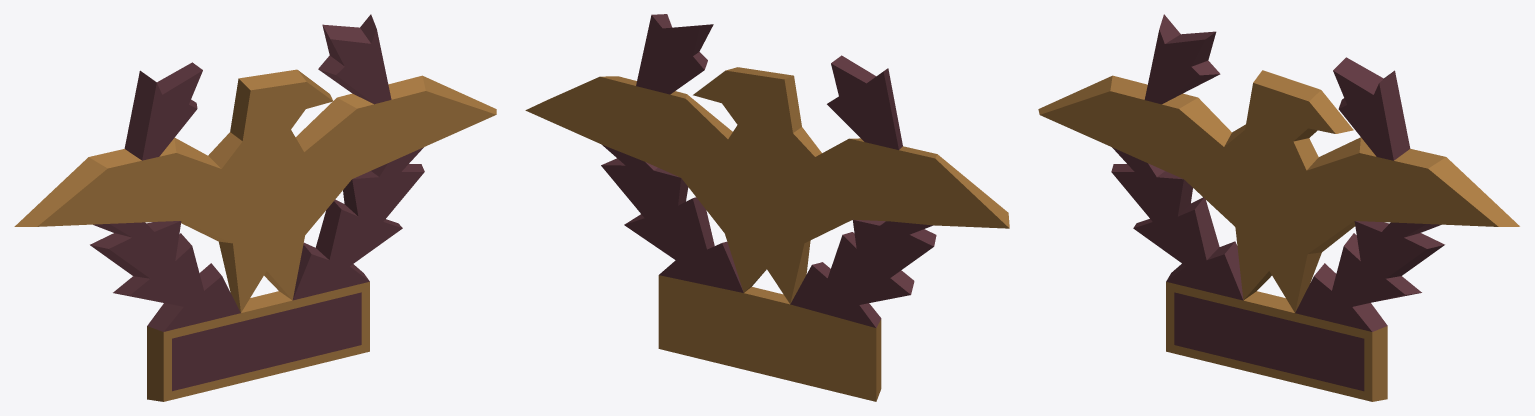
File: SM_Symbol_Roman_Empire.fbx
3 renders of one model, left to right at view 1: azimuth 30°, elevation 25°; view 2: azimuth 150°, elevation 25°; view 3: azimuth 330°, elevation 25°, orthographic.
Parts seen in each view (by area): view 1: SM_Roman_Symbol_Empire; view 2: SM_Roman_Symbol_Empire; view 3: SM_Roman_Symbol_Empire.
Part boxes in pixels (x1,y1,x2,y2): SM_Roman_Symbol_Empire: (14, 14, 496, 401); SM_Roman_Symbol_Empire: (525, 14, 1009, 401); SM_Roman_Symbol_Empire: (1038, 14, 1519, 401).
Bounding box in the file's own units: 1.84 × 1.21 × 0.0712.
